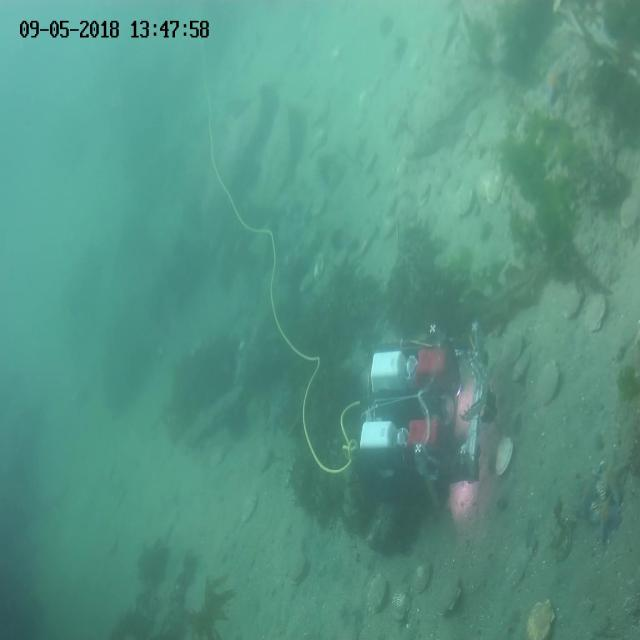scallop: (524, 595, 559, 640), (434, 571, 463, 617), (538, 357, 562, 408), (365, 569, 390, 617), (493, 434, 517, 479), (586, 291, 607, 337), (410, 556, 434, 596), (285, 550, 310, 588), (510, 344, 532, 386), (500, 328, 523, 364), (390, 586, 413, 622), (238, 486, 259, 523), (620, 193, 640, 230), (484, 171, 504, 207), (454, 184, 474, 218), (412, 180, 430, 210), (466, 108, 482, 140), (431, 167, 452, 191), (442, 174, 460, 200), (398, 195, 414, 224), (311, 252, 327, 279), (310, 194, 326, 220), (298, 272, 315, 294), (361, 152, 377, 173), (380, 218, 396, 239), (382, 193, 396, 217), (364, 175, 379, 196)
starfish: (593, 447, 633, 509), (540, 60, 574, 109), (592, 497, 626, 546)
